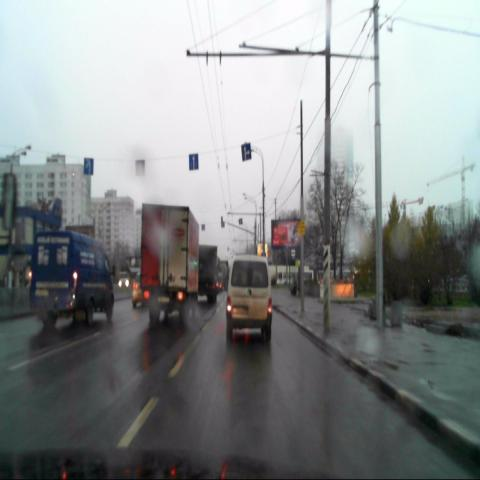5_15_2: (241, 143, 251, 162), (188, 153, 198, 171), (84, 157, 94, 175)
